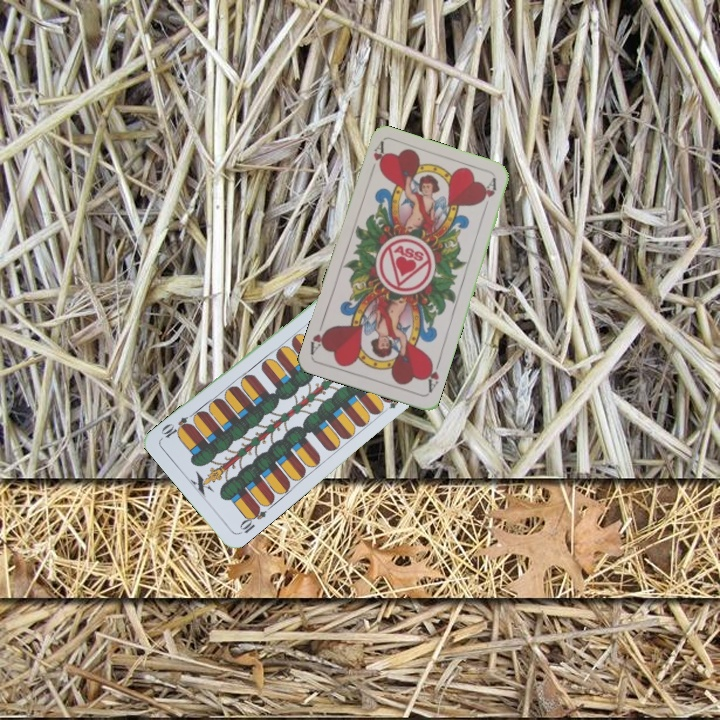E10: (234, 502, 269, 537)
HA: (421, 355, 443, 395), (366, 138, 388, 178)
